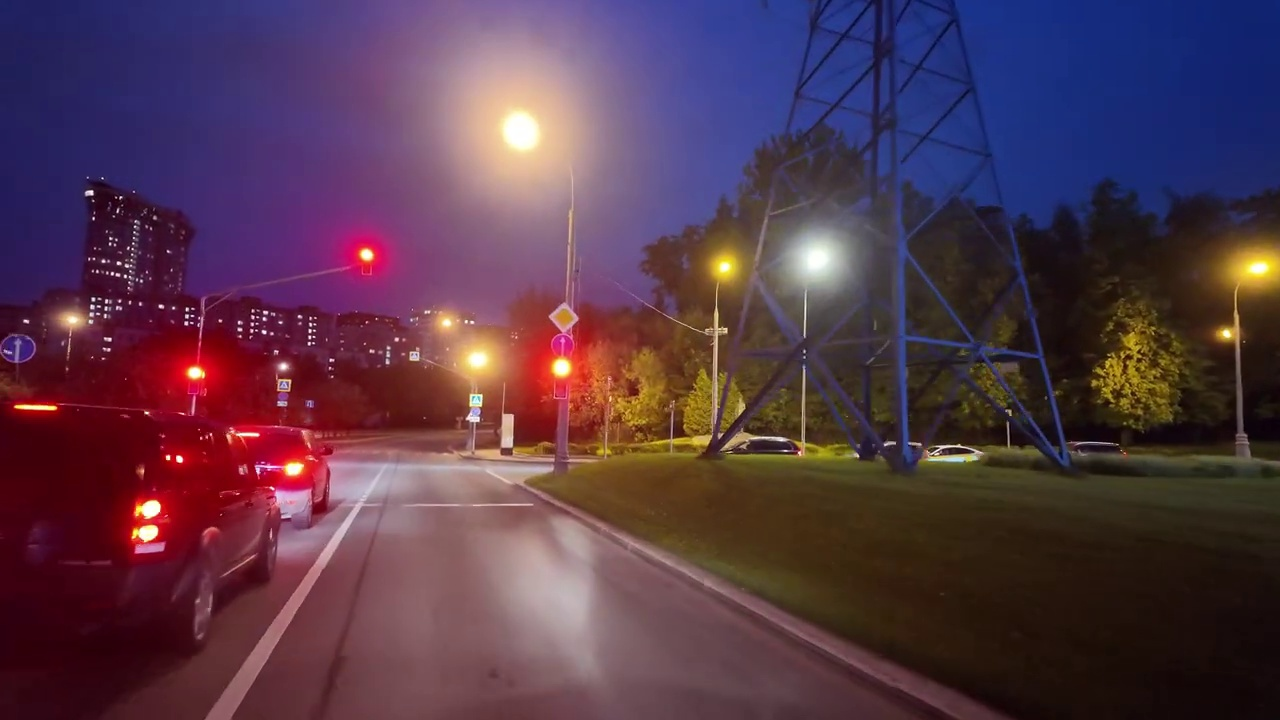acesa: (492, 102, 548, 162), (791, 237, 842, 285), (1235, 252, 1278, 288), (707, 250, 743, 286), (461, 344, 497, 376), (434, 310, 460, 334)
